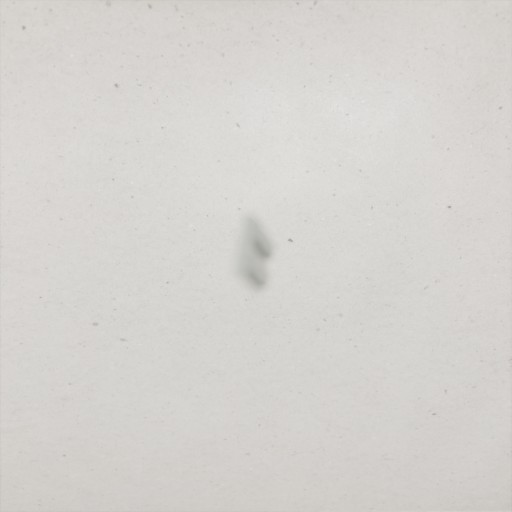lego: (232, 212, 276, 295)
